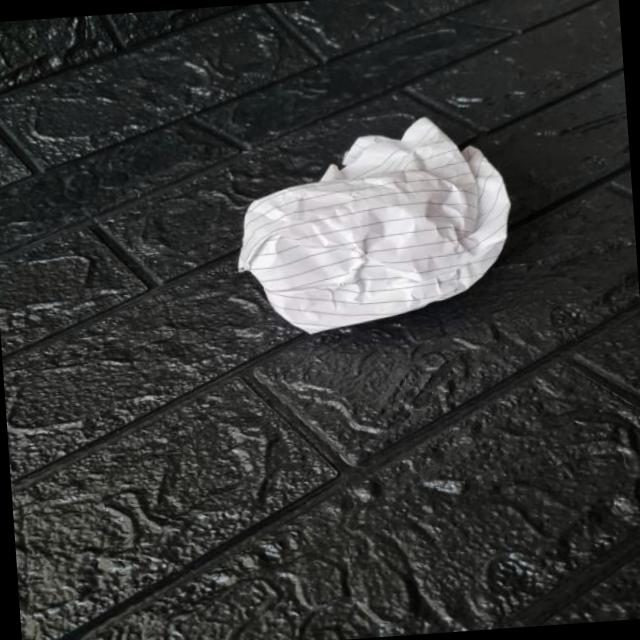cardboard paper: (237, 117, 507, 331)
